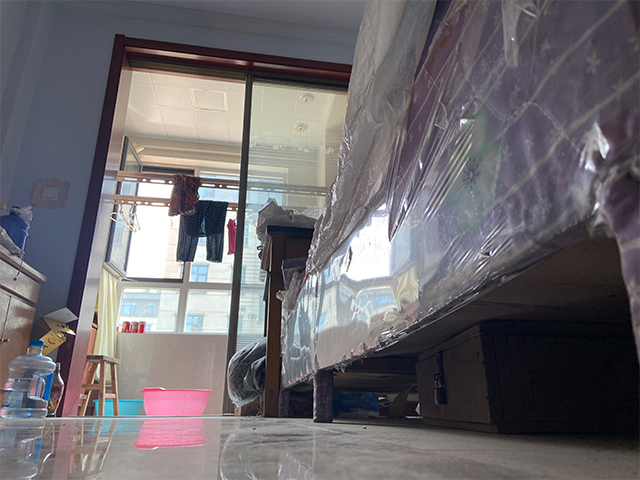bed: (276, 1, 640, 424)
cabinet: (1, 244, 47, 407)
stool: (79, 354, 121, 417)
